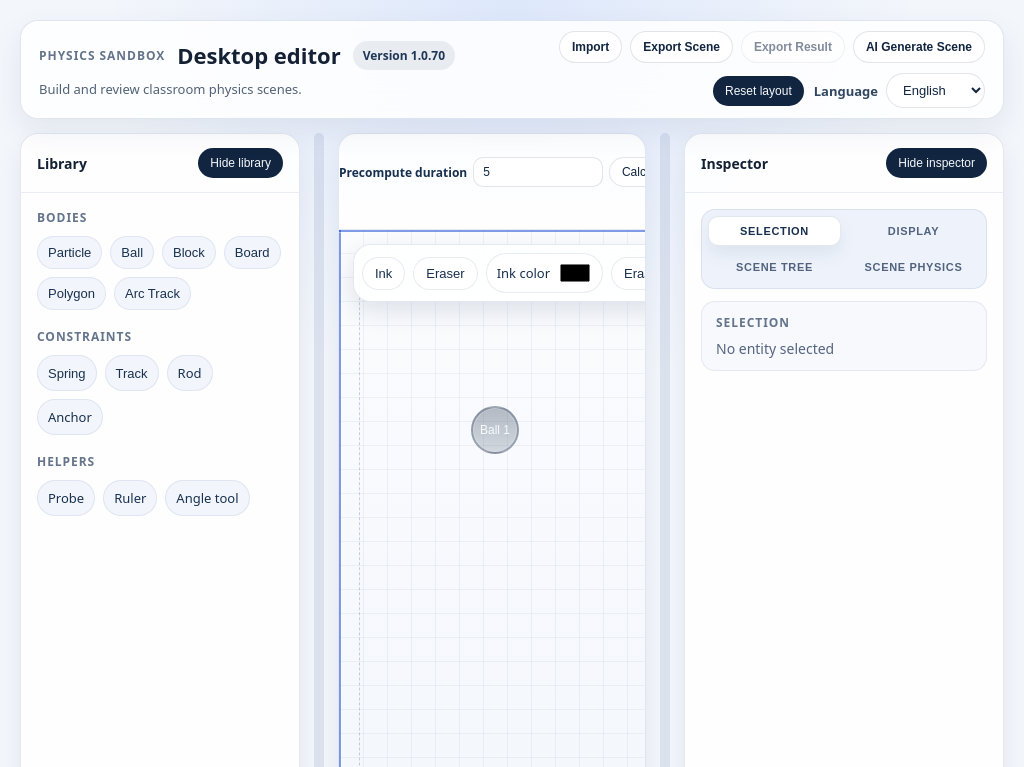
Test: App selection sync › quantizes and clamps inspector position edits before commit
Step 1. Click the button with test id "scene-entity-ball-1" → (495, 430), box [471,406,519,454]
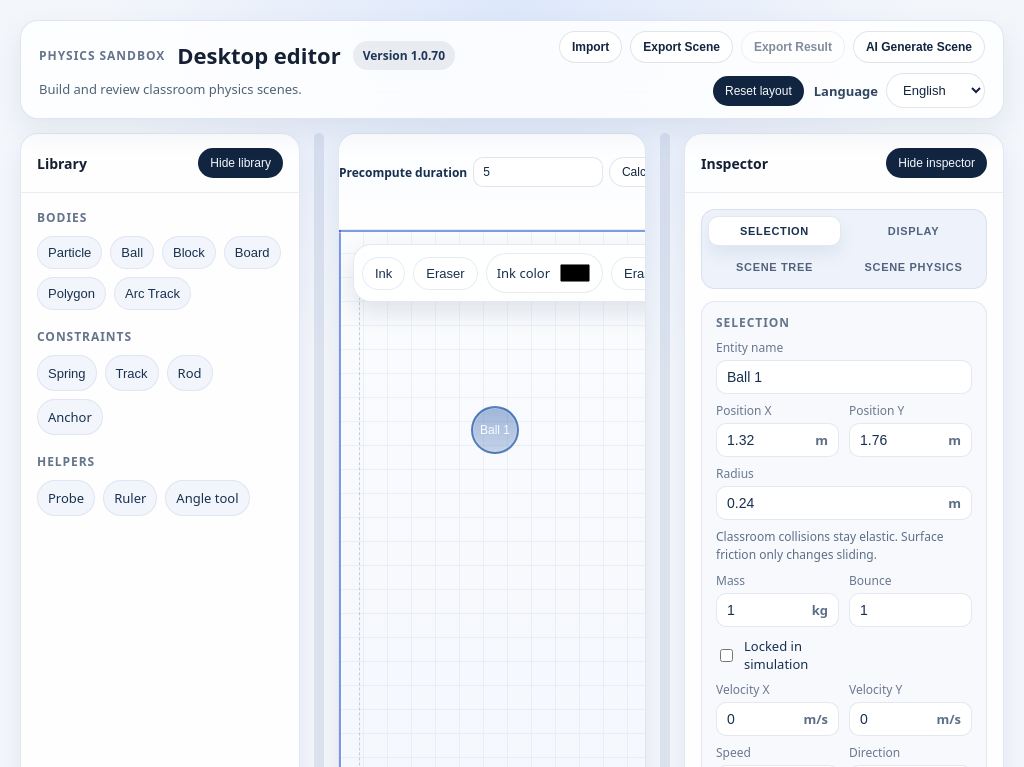
Step 2. Replace the text in the number field labelled "Position X" with "0.9441115113329357" → (767, 440), box [727,424,807,456]
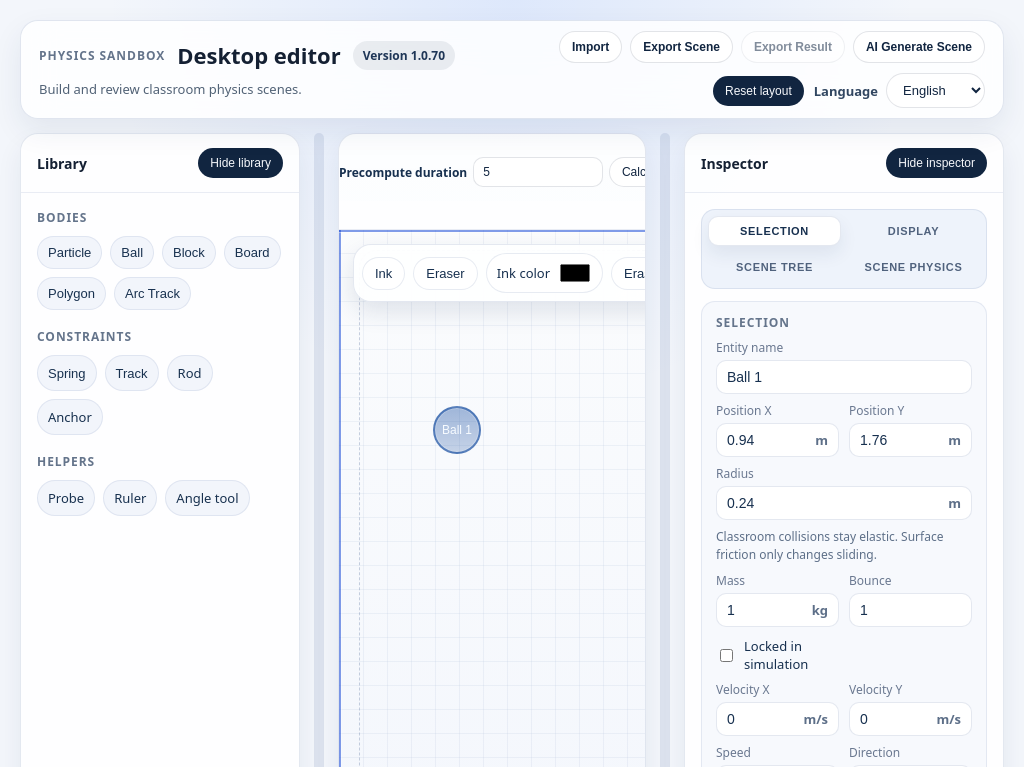
Step 3. Replace the text in the number field labelled "Position Y" with "-0.004" → (900, 440), box [860,424,940,456]
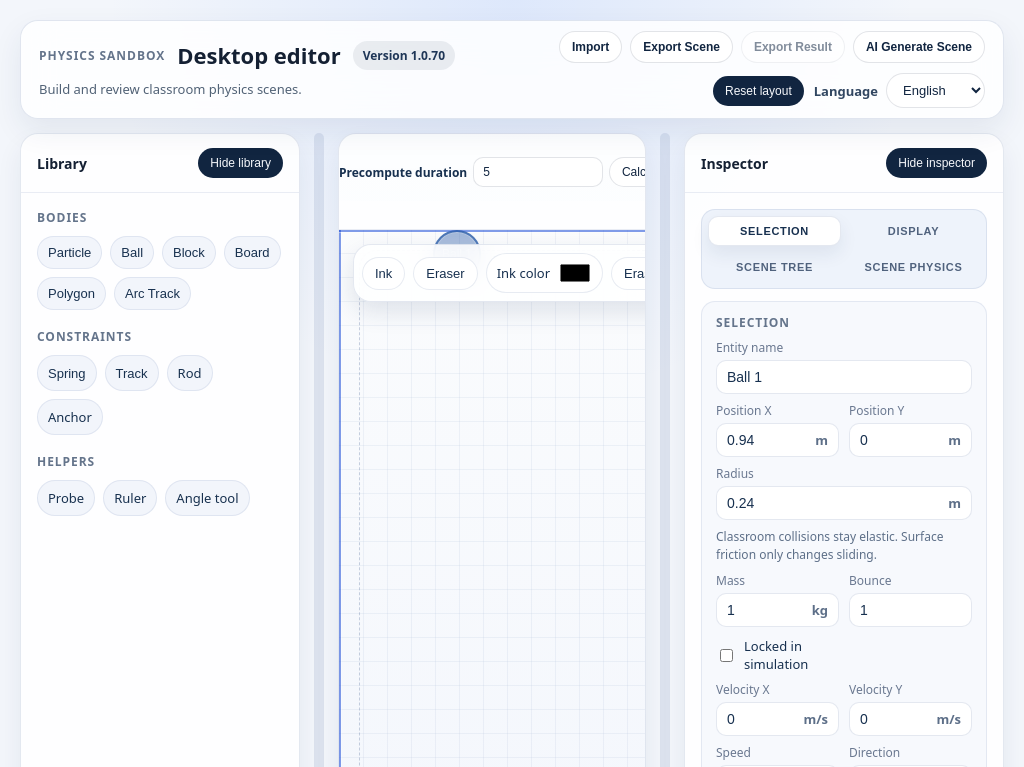
Expected: the number field labelled "Position X" holds "0.94", [727,424,807,456]
Expected: the number field labelled "Position Y" holds "0", [860,424,940,456]
